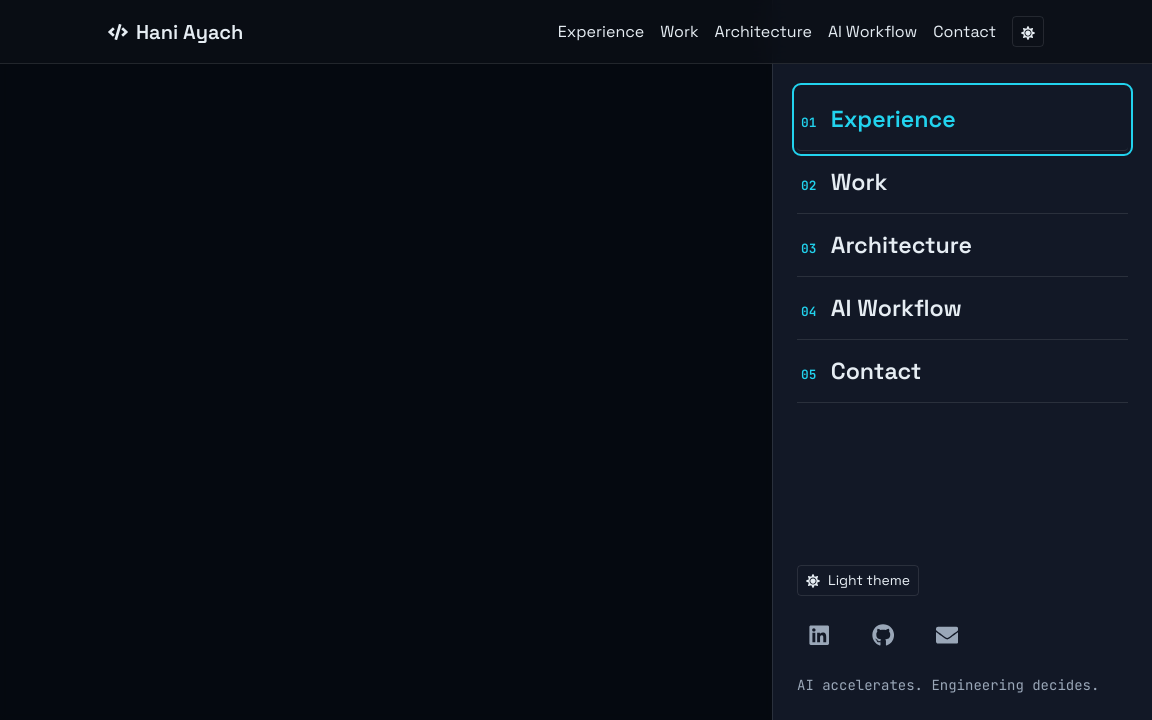
Test: tapping outside the menu closes it
The width and height of the screenshot is (1152, 720).
Earlier steps of the test are not shown.
Click the element with test id "menu-backdrop". click: click(576, 360)
box: [0,0,1151,719]
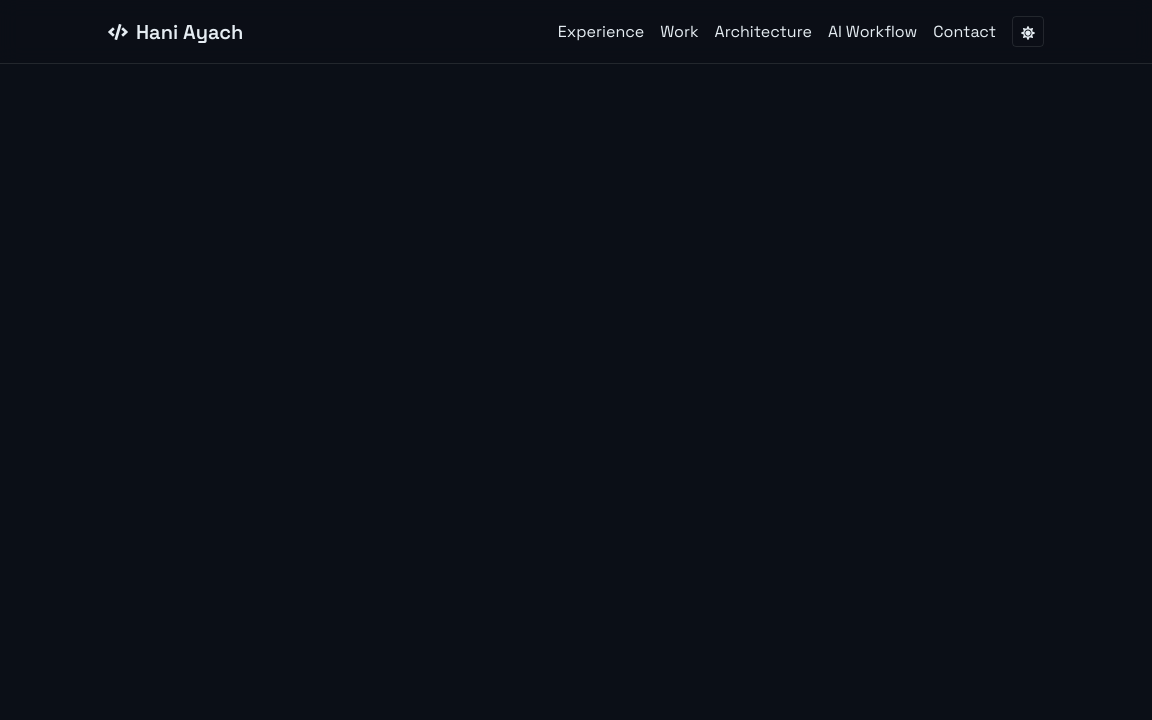
Expected: the dialog is gone
